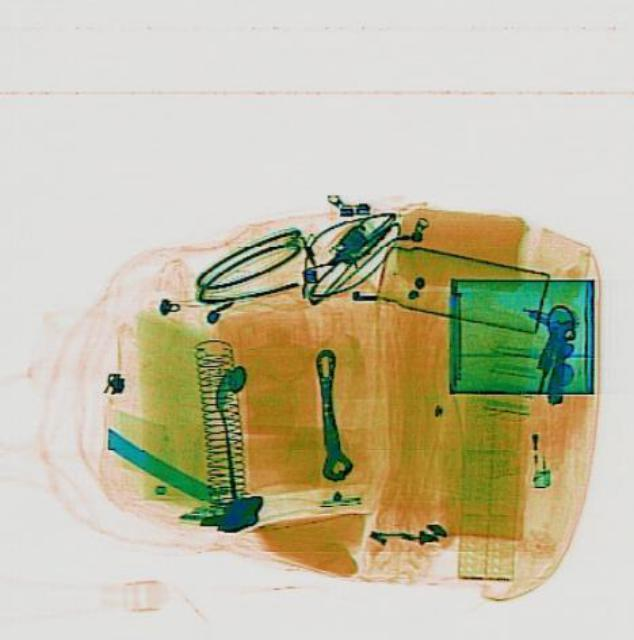Wrench: (303, 345, 353, 481)
